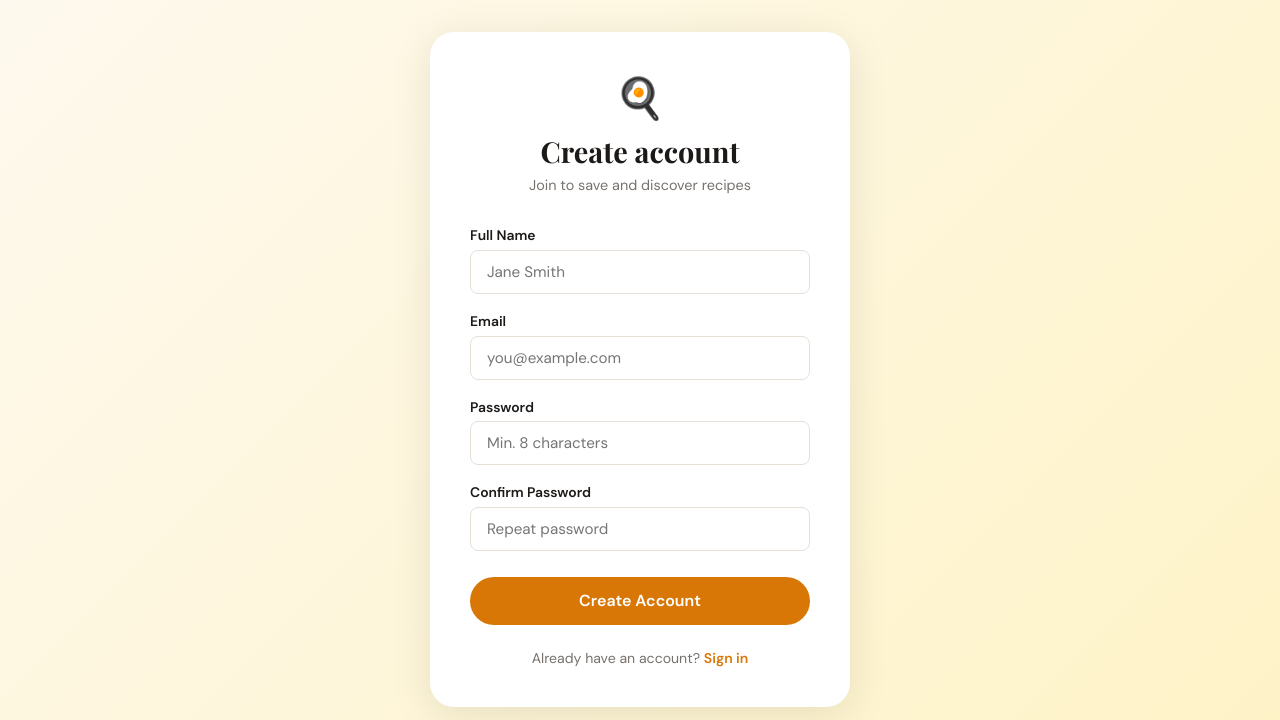
Test: Register Form › shows error for short password
Type "Test" into the field labelled "Full Name" at (640, 272), box x1=470 y1=250 x2=810 y2=294
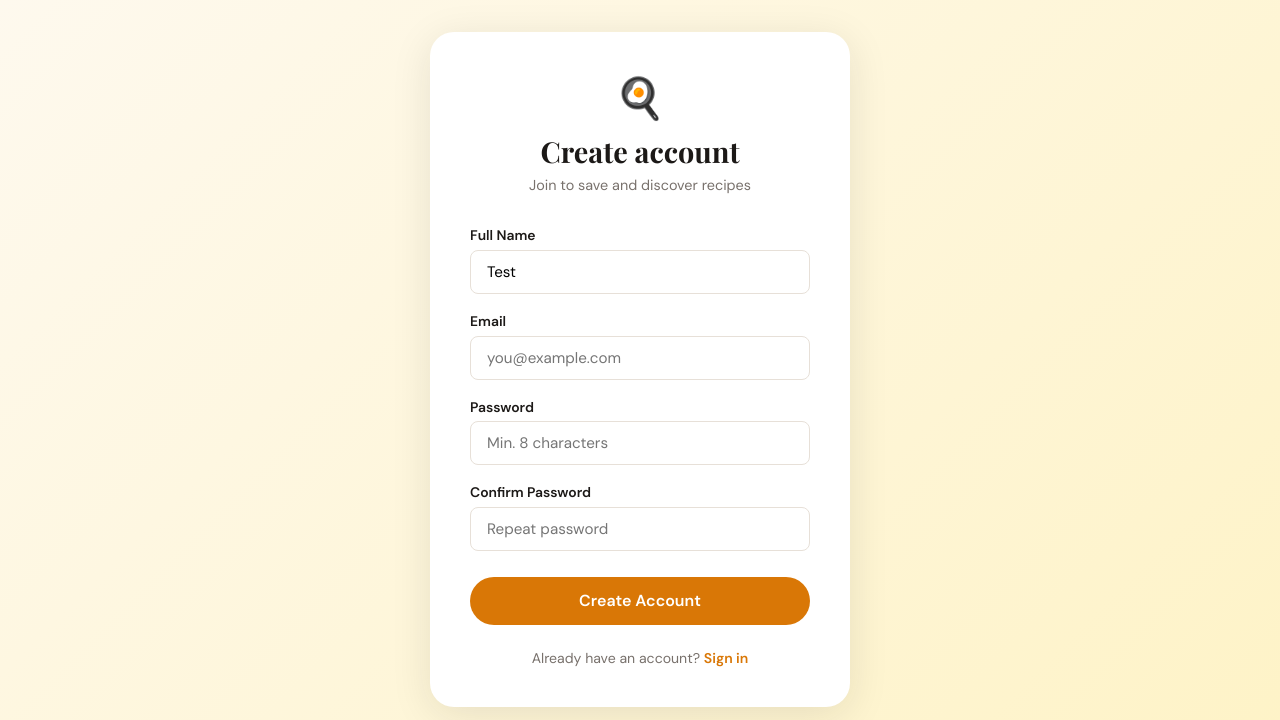
Type "test@test.com" into the field labelled "Email" at (640, 358), box x1=470 y1=336 x2=810 y2=380
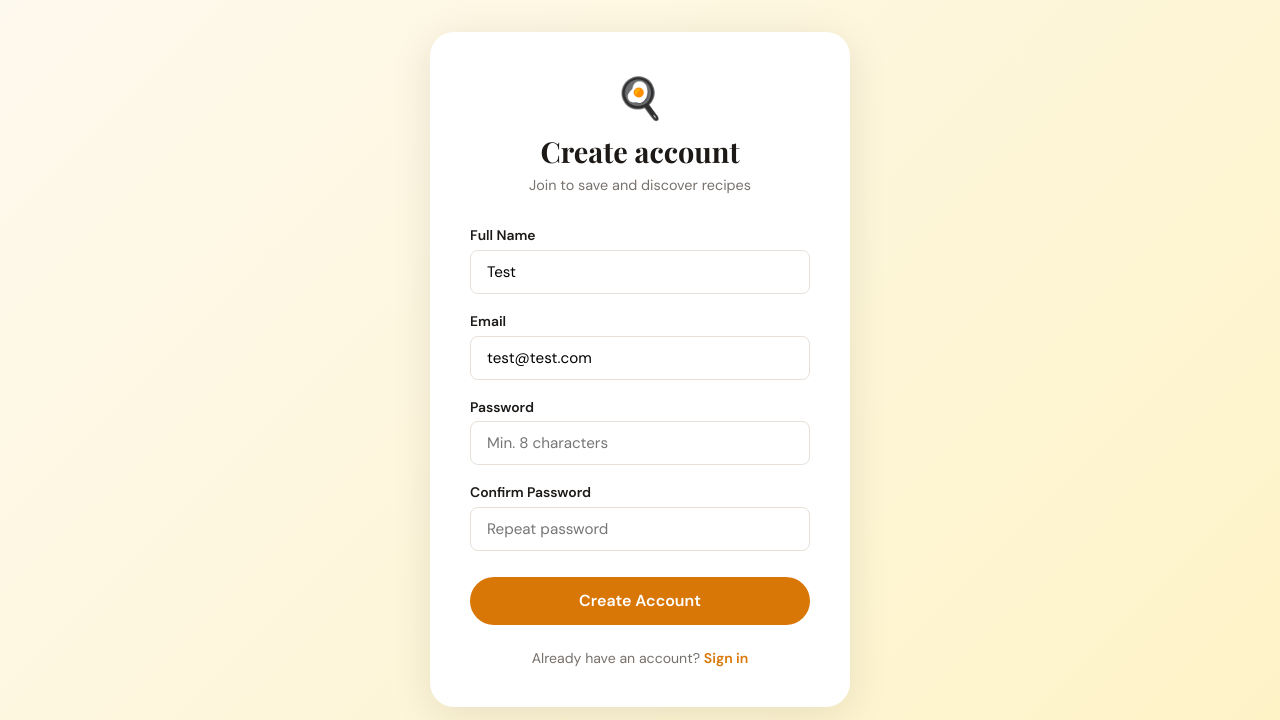
Type "short" into the password field labelled "Password" at (640, 443), box x1=470 y1=421 x2=810 y2=466
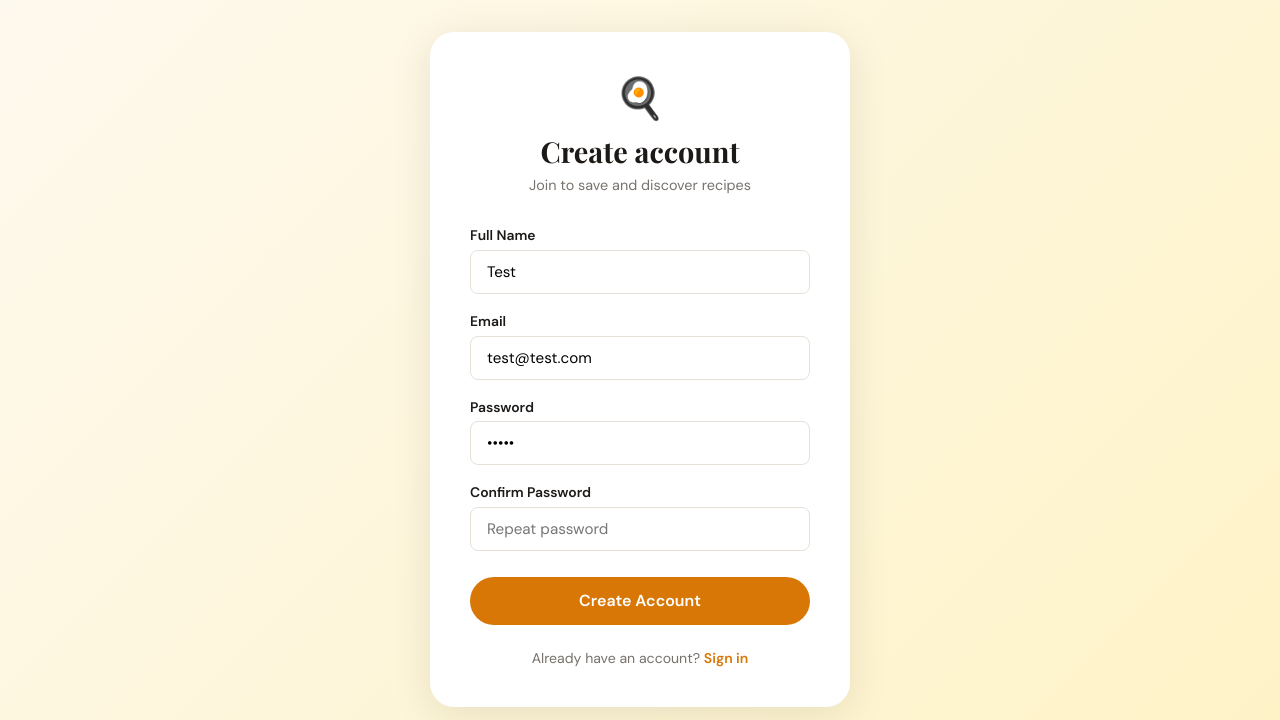
Type "short" into the password field labelled "Confirm Password" at (640, 529), box x1=470 y1=507 x2=810 y2=551
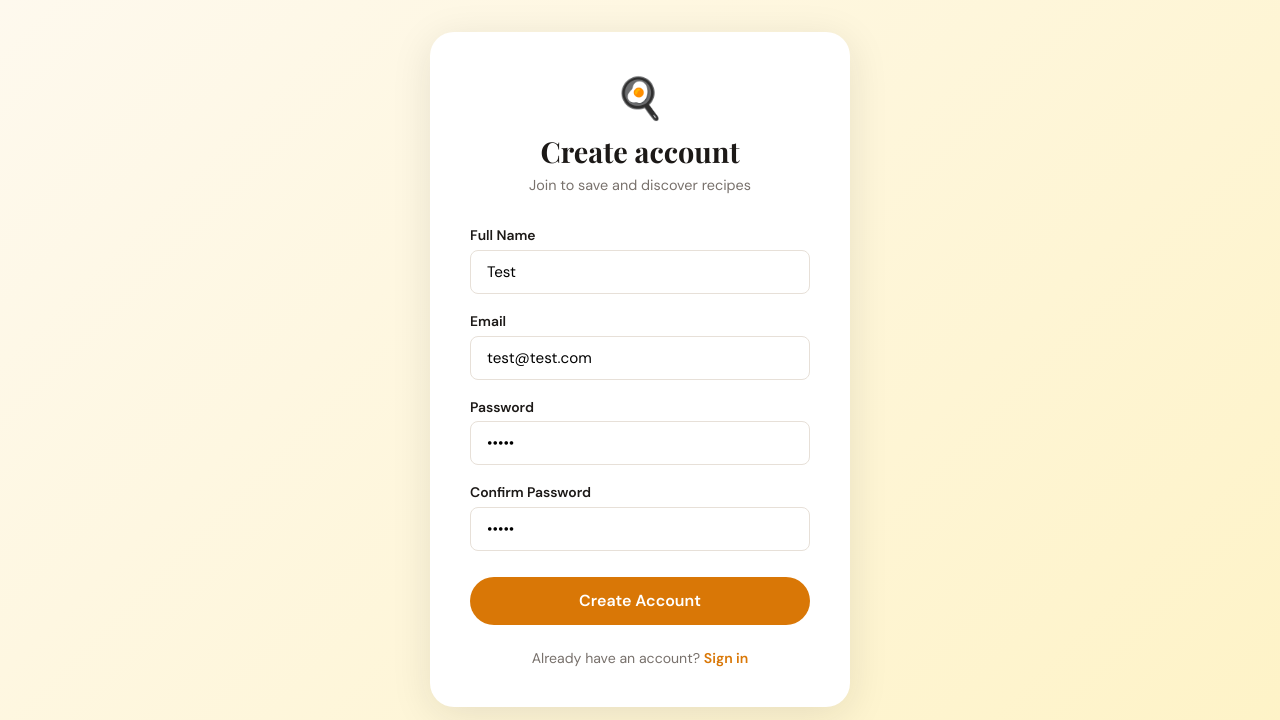
Click the button "Create Account" at (640, 601), box x1=470 y1=577 x2=810 y2=625
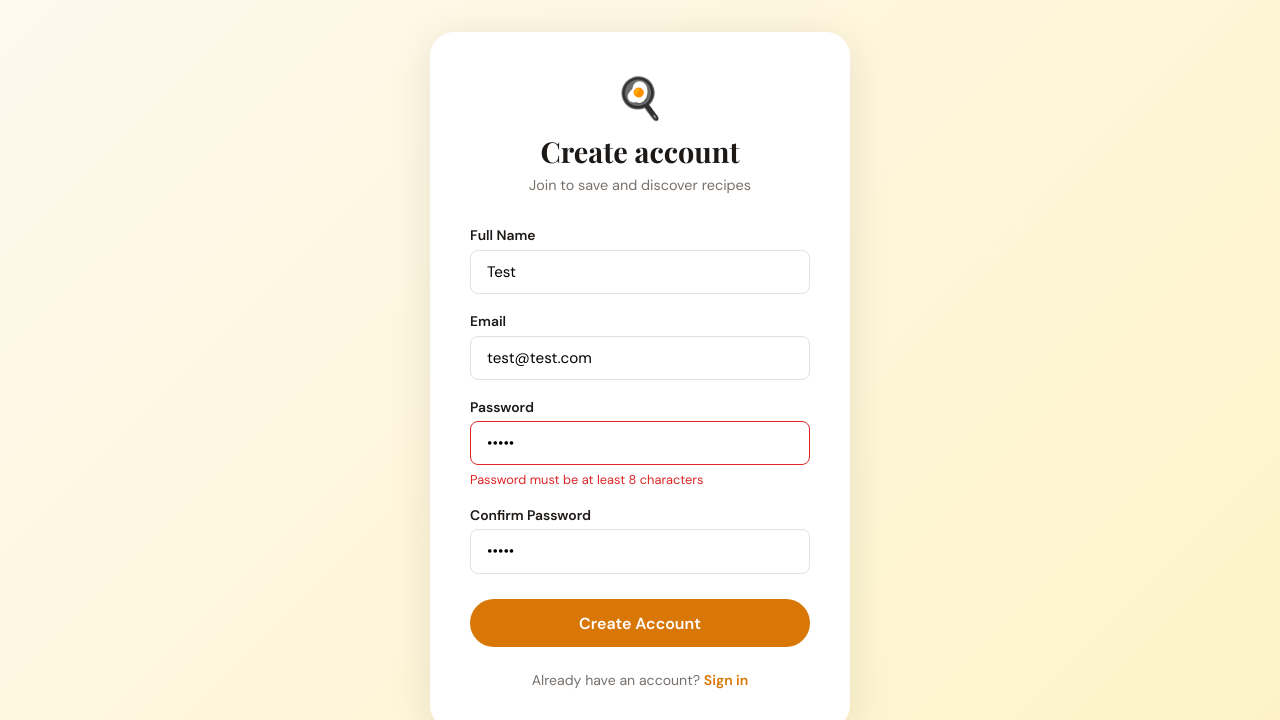
Expected: the text "Password must be at least 8 characters" is shown, x1=470 y1=471 x2=704 y2=488
